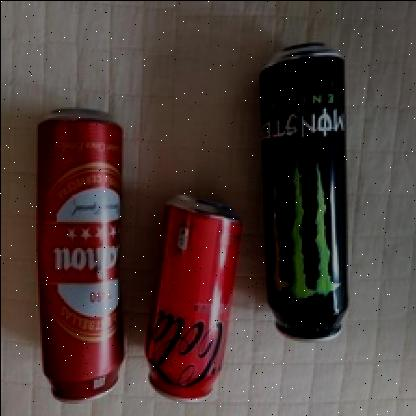Can: (258, 40, 348, 341), (35, 106, 124, 401), (136, 190, 247, 405)
